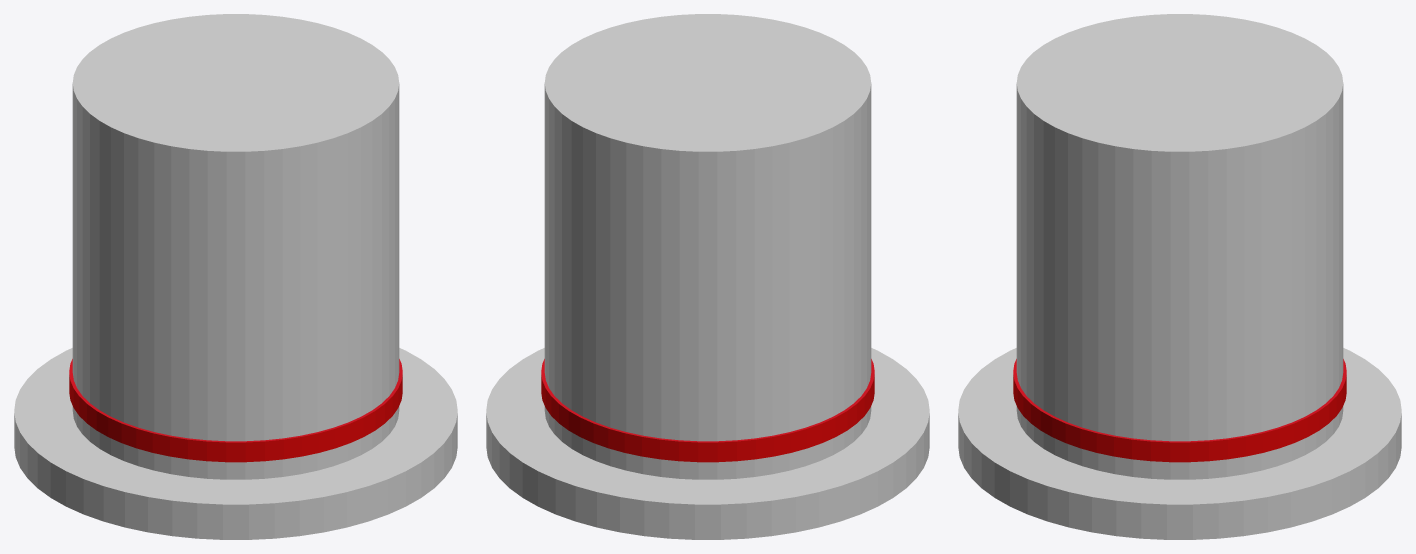
The model's file is TOPHAT.fbx.
3 views of the same model, side by side, from view 1: azimuth 30°, elevation 25°; view 2: azimuth 150°, elevation 25°; view 3: azimuth 270°, elevation 25° (orthographic).
Visible parts, largest first — view 1: Cylinder; view 2: Cylinder; view 3: Cylinder.
Boxes of the visible parts, x1,y1,x2,y2 form: Cylinder: (14,14,457,539); Cylinder: (486,14,929,539); Cylinder: (958,14,1401,539).
Bounding box in the file's own units: 200 × 181 × 200.
